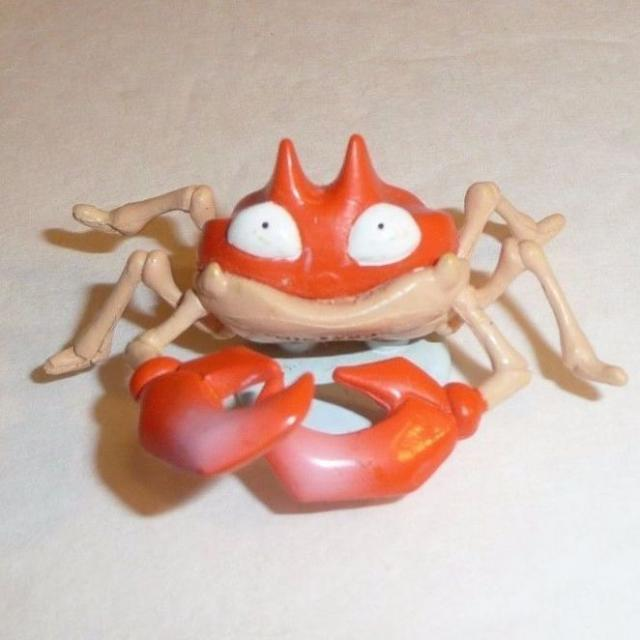Krabby: (70, 162, 577, 515)
